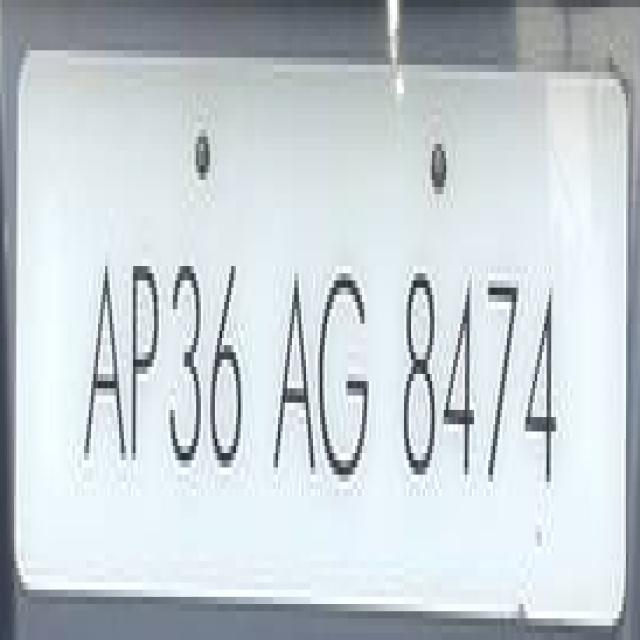plate: (5, 36, 607, 618)
